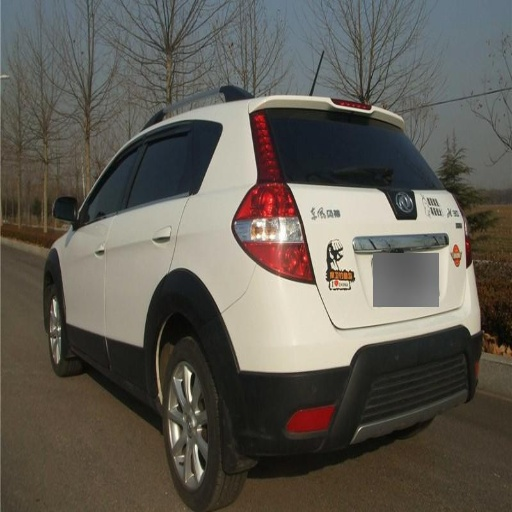back_bumper: (217, 260, 479, 459)
back_glass: (277, 115, 437, 187)
back_left_door: (106, 124, 188, 368)
tailgate: (269, 124, 462, 327)
